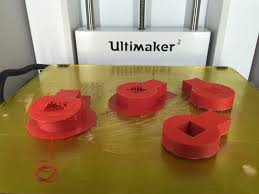fail: (31, 142, 66, 189), (42, 94, 79, 120)
